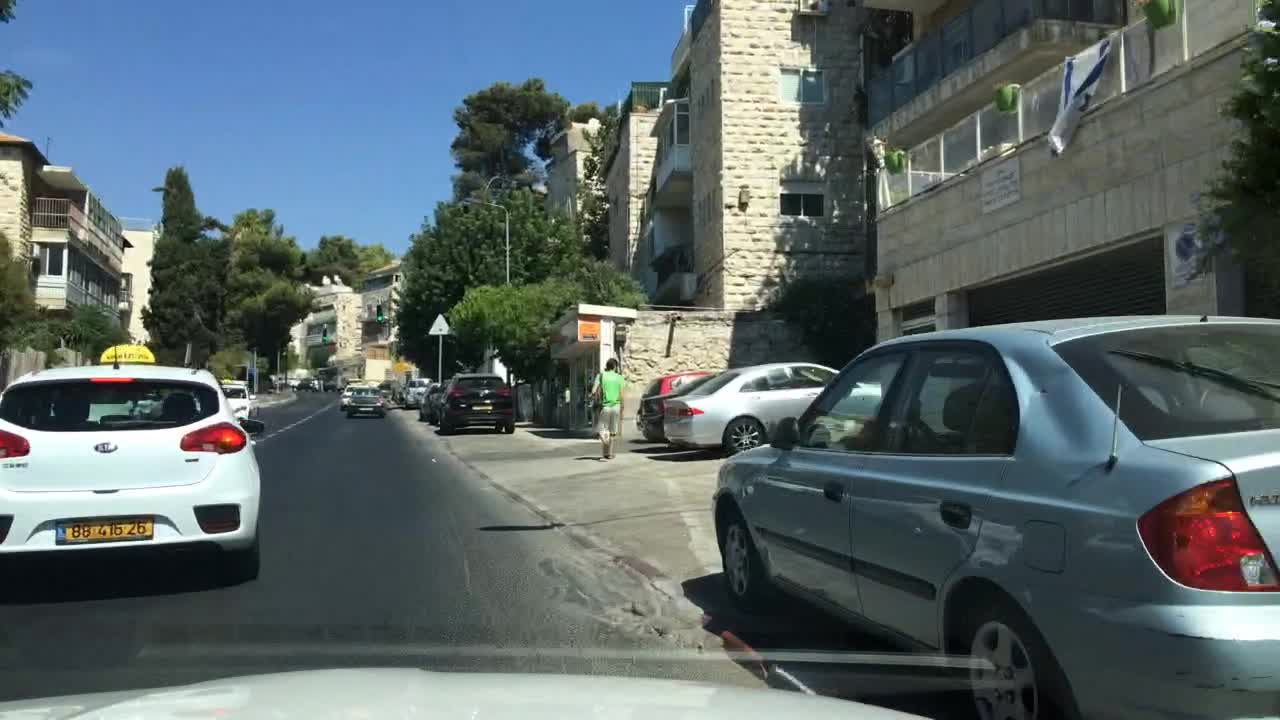car: (708, 311, 1279, 718), (0, 340, 264, 594), (660, 359, 844, 458), (632, 365, 725, 443), (437, 371, 516, 434), (415, 380, 456, 424), (217, 381, 256, 427), (345, 387, 389, 418), (395, 376, 436, 409), (338, 383, 367, 409), (373, 378, 404, 398), (293, 375, 319, 392), (319, 373, 338, 392), (338, 378, 363, 392), (285, 376, 302, 386), (274, 375, 288, 384)
person: (589, 356, 625, 460)
traffic light: (373, 304, 384, 324), (321, 329, 327, 343)
traffic sign: (426, 313, 453, 337), (392, 362, 414, 372), (247, 365, 256, 380), (316, 367, 332, 375)
